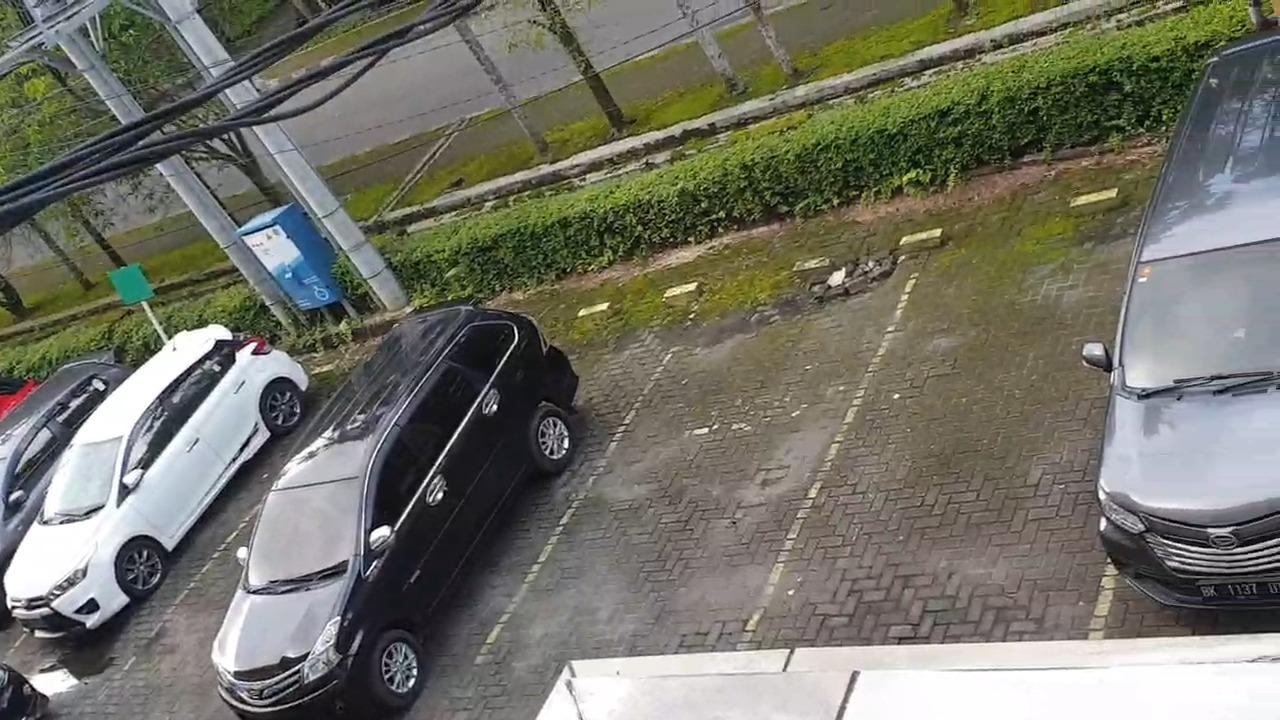empty: (823, 230, 1124, 640), (579, 274, 817, 651)
occupied: (341, 304, 599, 685), (0, 382, 204, 671)
